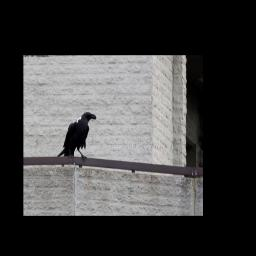Crow: (56, 110, 97, 167)
